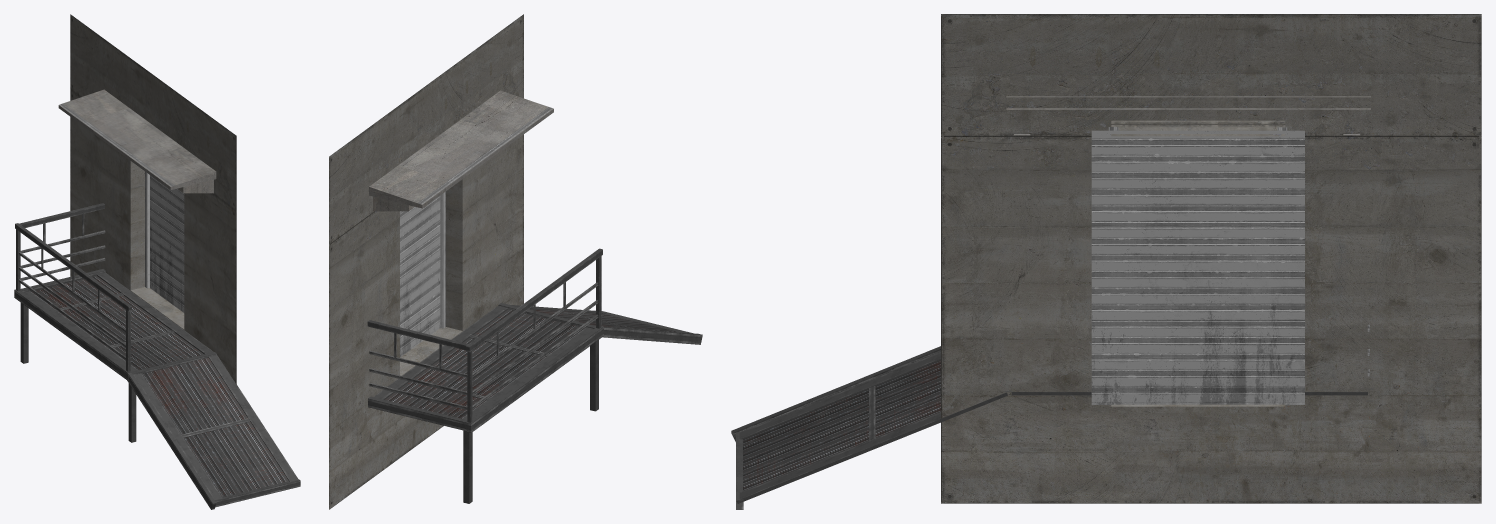
The model's file is CP_Wall_Entry_4m_06.fbx.
3 views of the same model, side by side, from view 1: azimuth 30°, elevation 25°; view 2: azimuth 150°, elevation 25°; view 3: azimuth 270°, elevation 25° (orthographic). The views are drawn at different scales.
Parts seen in each view (by area): view 1: CP_Wall_Entry_4m_06_LOD0; view 2: CP_Wall_Entry_4m_06_LOD0; view 3: CP_Wall_Entry_4m_06_LOD0.
Boxes of the visible parts, x1,y1,x2,y2 form: CP_Wall_Entry_4m_06_LOD0: (14,14,300,509); CP_Wall_Entry_4m_06_LOD0: (329,14,702,509); CP_Wall_Entry_4m_06_LOD0: (731,14,1481,509).
Size of what is drawn, in the model's own units: 150 by 407 by 555.
